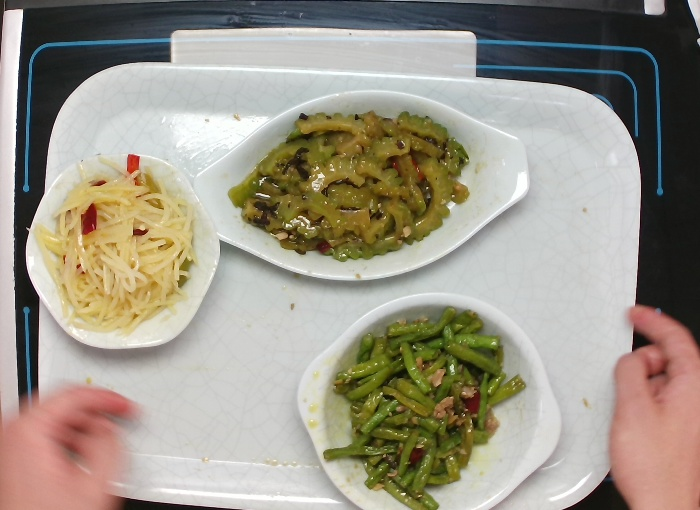JYsf-Shuang_Er_Wan: (295, 288, 565, 510)
JYsf-Yu_Pan: (188, 87, 533, 282)
WCQzf-Hua_Duo_Wan: (27, 150, 219, 350)
